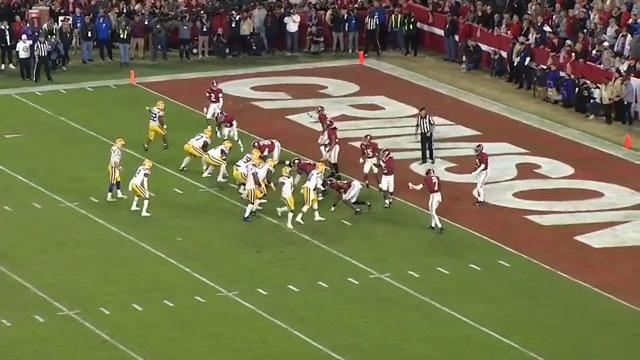player: (292, 163, 325, 228), (416, 168, 443, 237), (240, 158, 265, 223), (313, 103, 337, 170), (141, 101, 170, 156), (128, 158, 154, 218), (329, 178, 371, 215), (107, 136, 130, 201), (180, 129, 213, 174), (250, 158, 277, 212), (278, 164, 300, 225), (359, 133, 381, 193), (202, 141, 233, 183), (472, 141, 492, 206), (203, 79, 225, 137), (322, 117, 342, 180), (375, 148, 395, 209), (252, 138, 286, 170), (230, 150, 253, 197), (216, 110, 242, 150), (291, 158, 320, 190)
ref: (30, 32, 56, 87), (418, 104, 437, 166)
